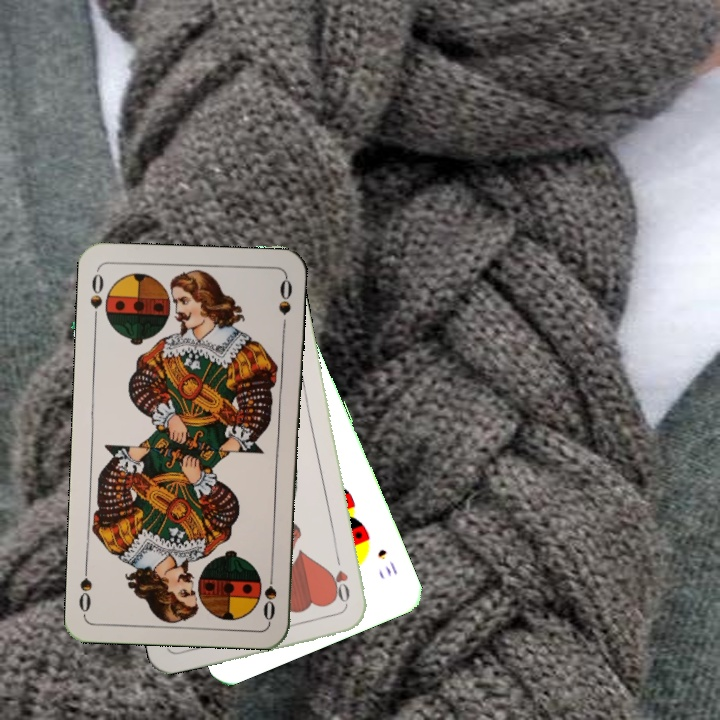HO: (328, 552, 353, 611)
S10: (373, 545, 401, 579)
SO: (259, 564, 280, 623), (86, 267, 106, 326)
